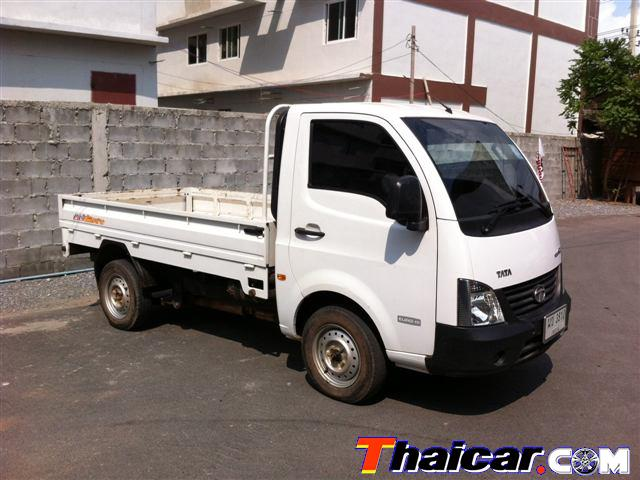pickup: (55, 99, 573, 402)
